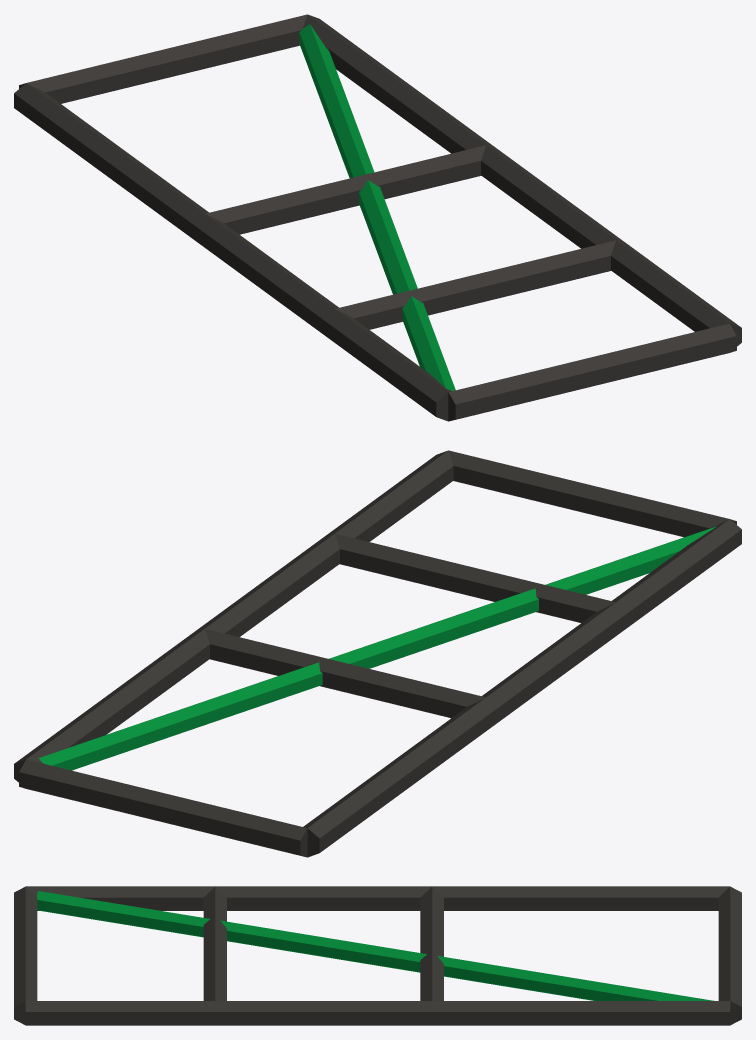
The model's file is P4_chassis.glb.
The picture shows the model from 3 angles, top to bottom: view 1: azimuth 30°, elevation 25°; view 2: azimuth 150°, elevation 25°; view 3: azimuth 270°, elevation 25°; orthographic projection. The views are drawn at different scales.
Visible parts, largest first — view 1: chassis-rail_ink, cross-member_ink, diagonal_green; view 2: chassis-rail_ink, cross-member_ink, diagonal_green; view 3: chassis-rail_ink, diagonal_green, cross-member_ink.
Part boxes in pixels (box(x1,y1,x2,y2)): chassis-rail_ink: box(14, 14, 741, 421); cross-member_ink: box(19, 14, 736, 421); diagonal_green: box(299, 24, 455, 390); chassis-rail_ink: box(14, 450, 741, 857); cross-member_ink: box(19, 450, 736, 857); diagonal_green: box(38, 526, 716, 770); chassis-rail_ink: box(25, 886, 730, 1025); diagonal_green: box(37, 891, 713, 1000); cross-member_ink: box(14, 886, 741, 1025).
Size of the model in its own units: 1.09 by 0.1 by 2.69.
